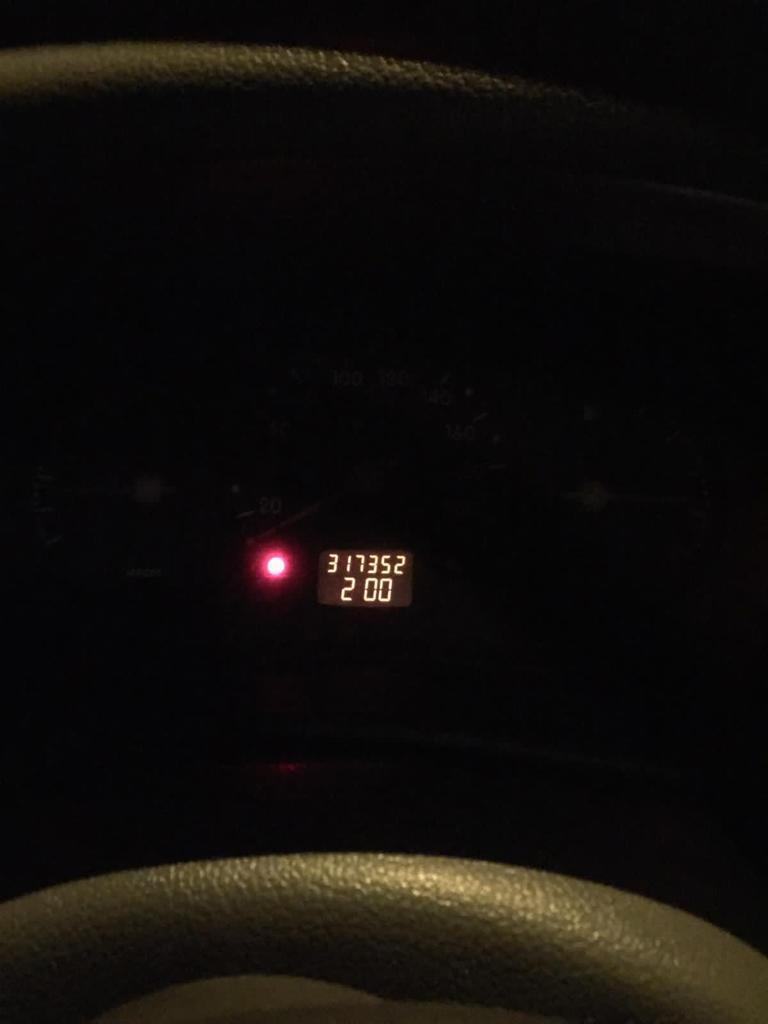0: (361, 575, 377, 602), (378, 576, 393, 602)
1: (342, 554, 353, 571)
2: (338, 575, 356, 602), (392, 554, 407, 575)
3: (325, 551, 338, 573), (366, 554, 378, 574)
5: (379, 554, 391, 574)
7: (353, 553, 365, 572)
odometer: (309, 547, 418, 612)
